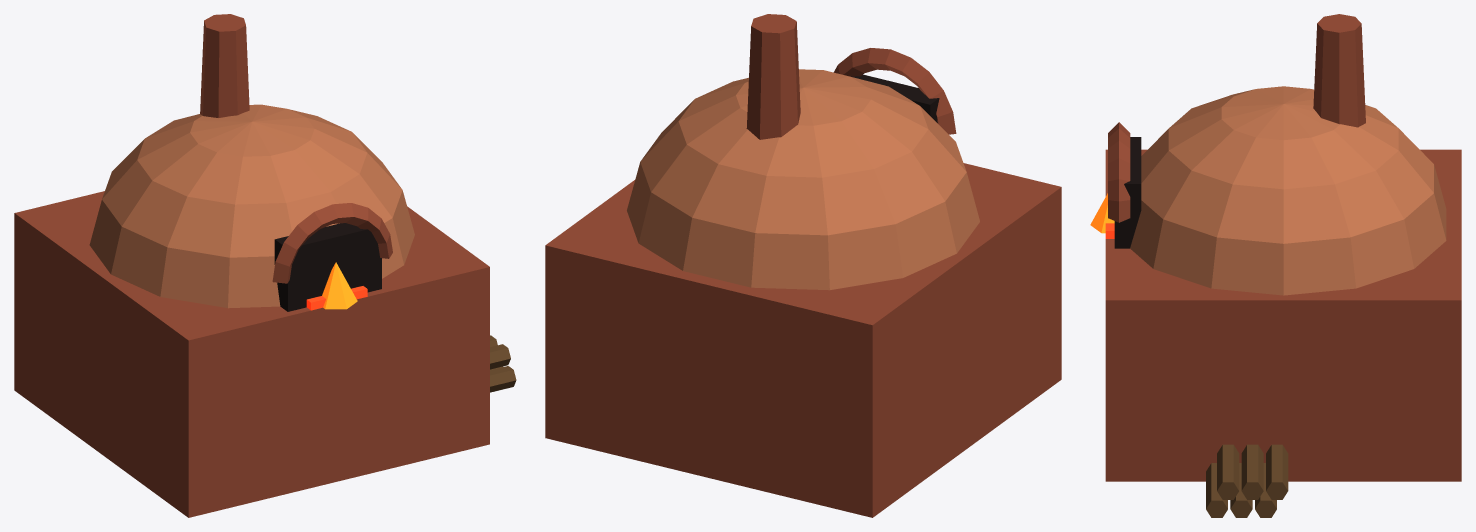
The model's file is clay_oven.glb.
3 views of the same model, side by side, from view 1: azimuth 30°, elevation 25°; view 2: azimuth 150°, elevation 25°; view 3: azimuth 270°, elevation 25° (orthographic). The views are drawn at different scales.
Visible parts, largest first — view 1: base_oven_brick, dome_oven_clay, mouth_oven_dark, chimney_oven_brick, mouth_oven_brick, fire_oven_fire; view 2: base_oven_brick, dome_oven_clay, chimney_oven_brick, mouth_oven_brick, mouth_oven_dark; view 3: base_oven_brick, dome_oven_clay, wood_firewood (×6), chimney_oven_brick, mouth_oven_brick, mouth_oven_dark.
Part boxes in pixels (x1,y1,x2,y2): base_oven_brick: (14,191,489,517); dome_oven_clay: (89,104,414,308); mouth_oven_dark: (274,223,381,311); chimney_oven_brick: (200,14,249,117); mouth_oven_brick: (272,203,392,283); fire_oven_fire: (322,262,357,309); base_oven_brick: (545,163,1061,517); dome_oven_clay: (627,69,979,290); chimney_oven_brick: (746,14,800,139); mouth_oven_brick: (833,48,956,134); mouth_oven_dark: (851,74,939,122); base_oven_brick: (1105,149,1461,481); dome_oven_clay: (1130,86,1446,295); wood_firewood (×6): (1206,444,1288,517); chimney_oven_brick: (1313,14,1365,127); mouth_oven_brick: (1108,122,1130,222); mouth_oven_dark: (1114,137,1141,248).
Size of the model in its own units: 2 by 1.9 by 1.67.
